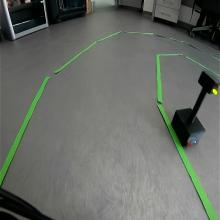green: (197, 69, 220, 96)
